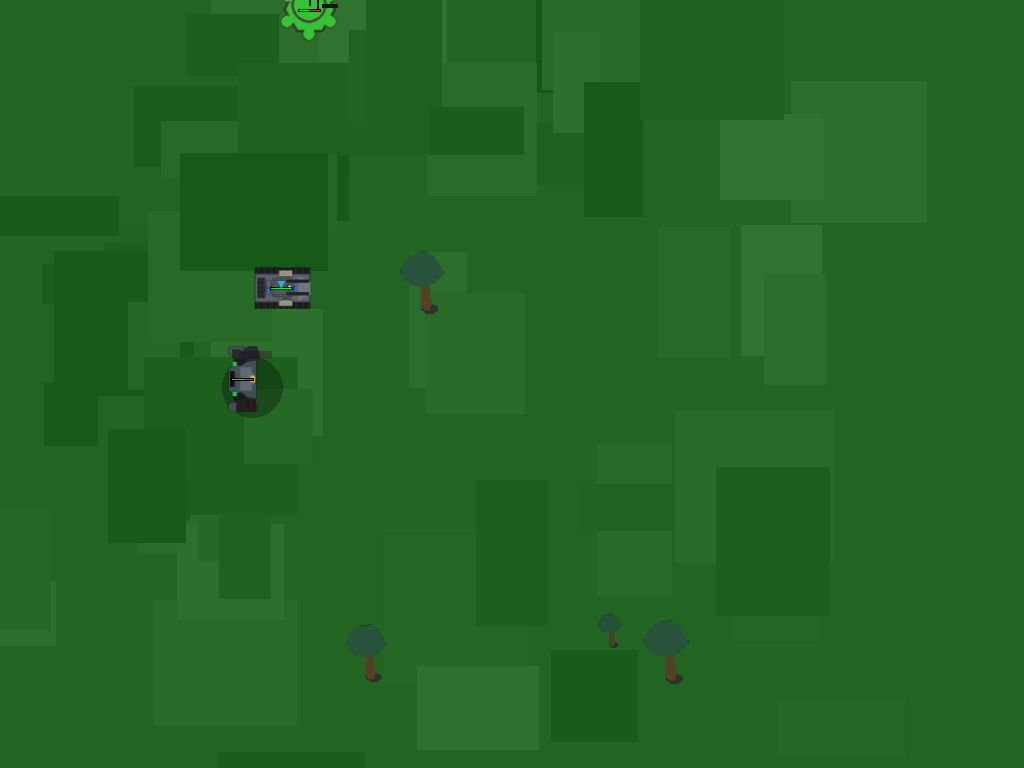APC_chn: (275, 0, 341, 66)
Bastion: (217, 353, 266, 402)
M1A2_rus: (256, 261, 306, 311)
